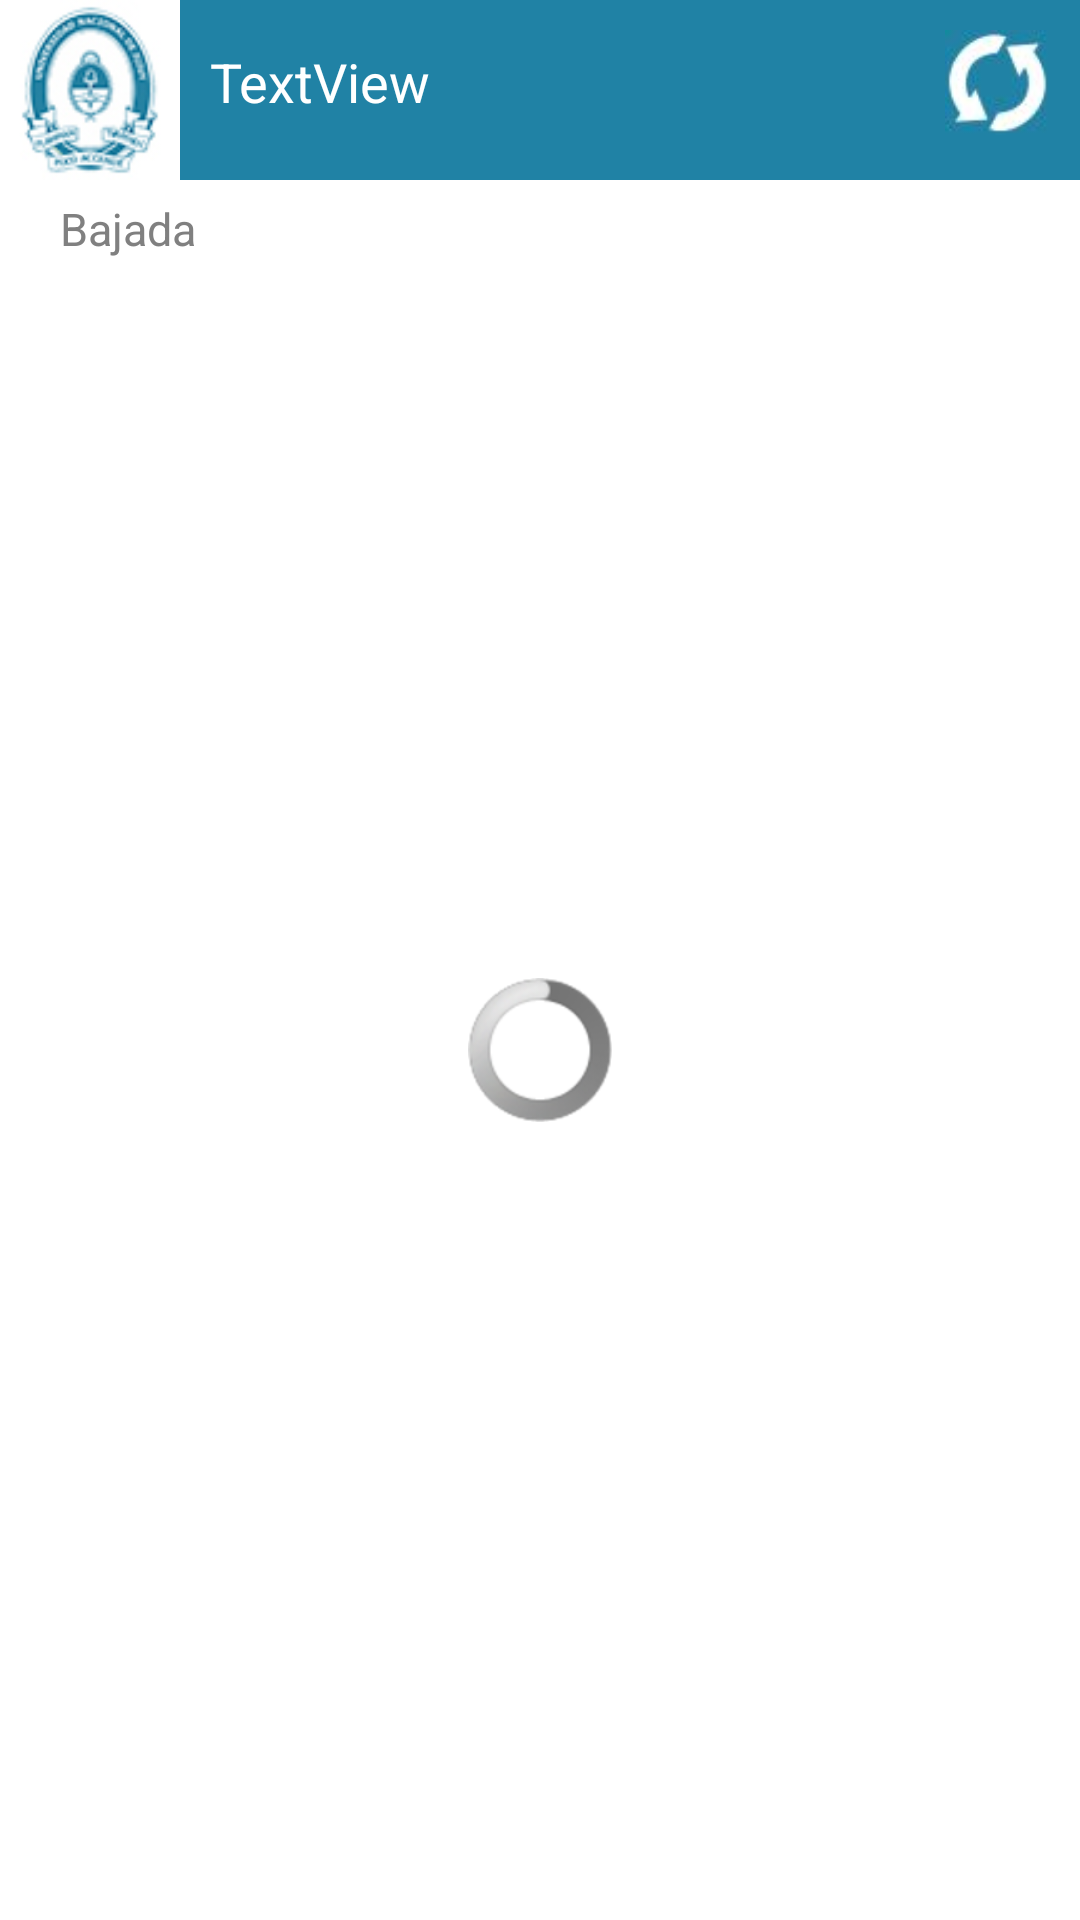

Screen size 1080px×1920px. Icon name, then its box in pixels as (x1, y1, x2, y2):
actualizar: (948, 32, 1047, 132)
